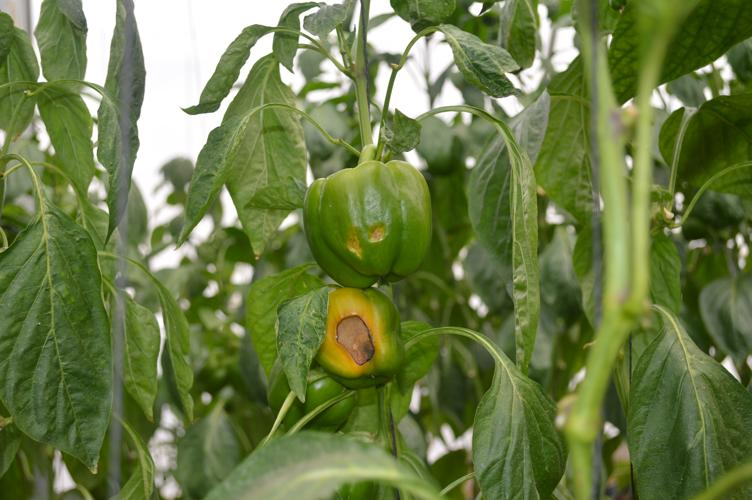BellPepper: (304, 163, 427, 291), (306, 290, 404, 385), (283, 373, 348, 432)
